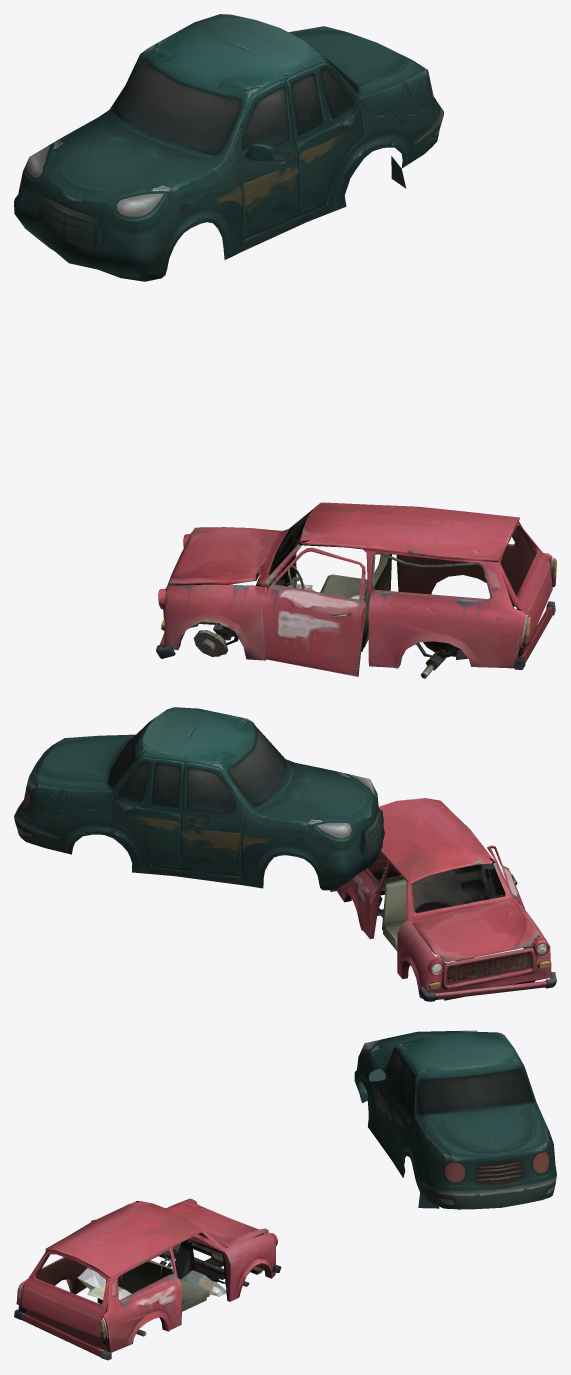
Rendered from wj_che.FBX.
The picture shows the model from 3 angles, top to bottom: view 1: azimuth 30°, elevation 25°; view 2: azimuth 150°, elevation 25°; view 3: azimuth 270°, elevation 25°; orthographic projection. The views are drawn at different scales.
Parts seen in each view (by area): view 1: wj_che02, wj_che01; view 2: wj_che02, wj_che01; view 3: wj_che02, wj_che01.
Boxes of the visible parts, x1=… form: wj_che02: x1=14, y1=14, x2=443, y2=281; wj_che01: x1=156, y1=502, x2=556, y2=678; wj_che02: x1=14, y1=707, x2=384, y2=890; wj_che01: x1=329, y1=798, x2=556, y2=1001; wj_che02: x1=354, y1=1030, x2=556, y2=1209; wj_che01: x1=14, y1=1198, x2=281, y2=1360.
Bounding box in the file's own units: 220 × 305 × 181.
